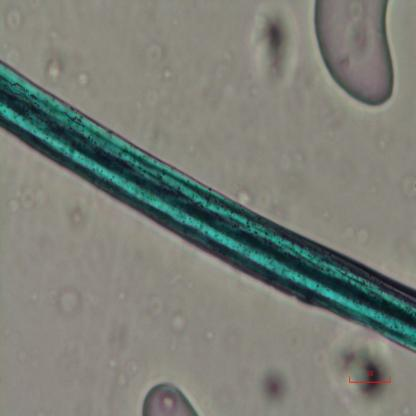Air bubble: (309, 0, 400, 110), (136, 381, 202, 415)
Background material: (327, 340, 399, 410), (250, 2, 302, 94), (2, 176, 50, 219), (105, 349, 147, 390), (333, 211, 375, 249), (142, 34, 173, 82), (258, 367, 292, 410), (64, 58, 99, 86), (57, 284, 82, 321), (0, 2, 31, 30), (43, 52, 65, 86), (168, 311, 189, 337), (278, 153, 297, 178), (64, 208, 87, 225), (150, 293, 160, 318)
Microfibre: (0, 59, 416, 354)
